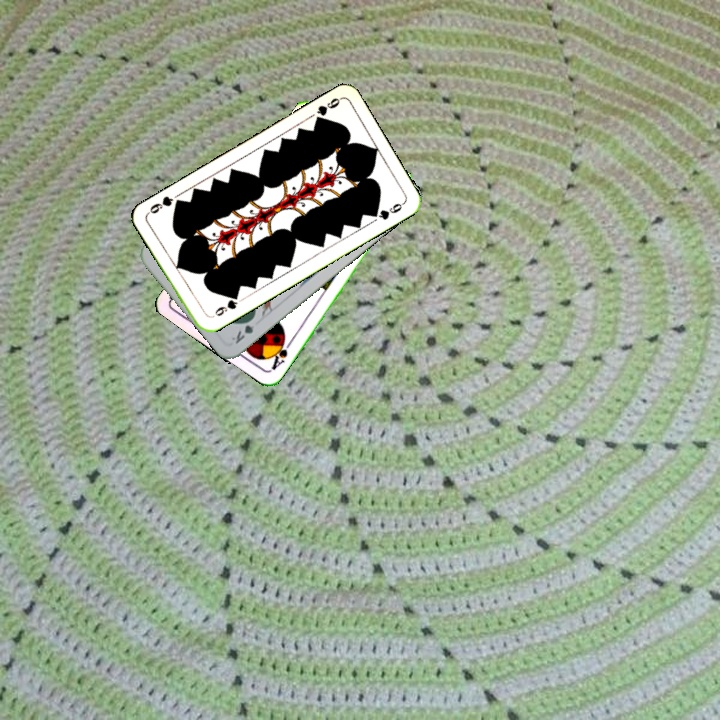G9: (311, 94, 343, 126), (211, 291, 241, 319)
GK: (227, 312, 258, 346)
SA: (265, 335, 294, 374)
